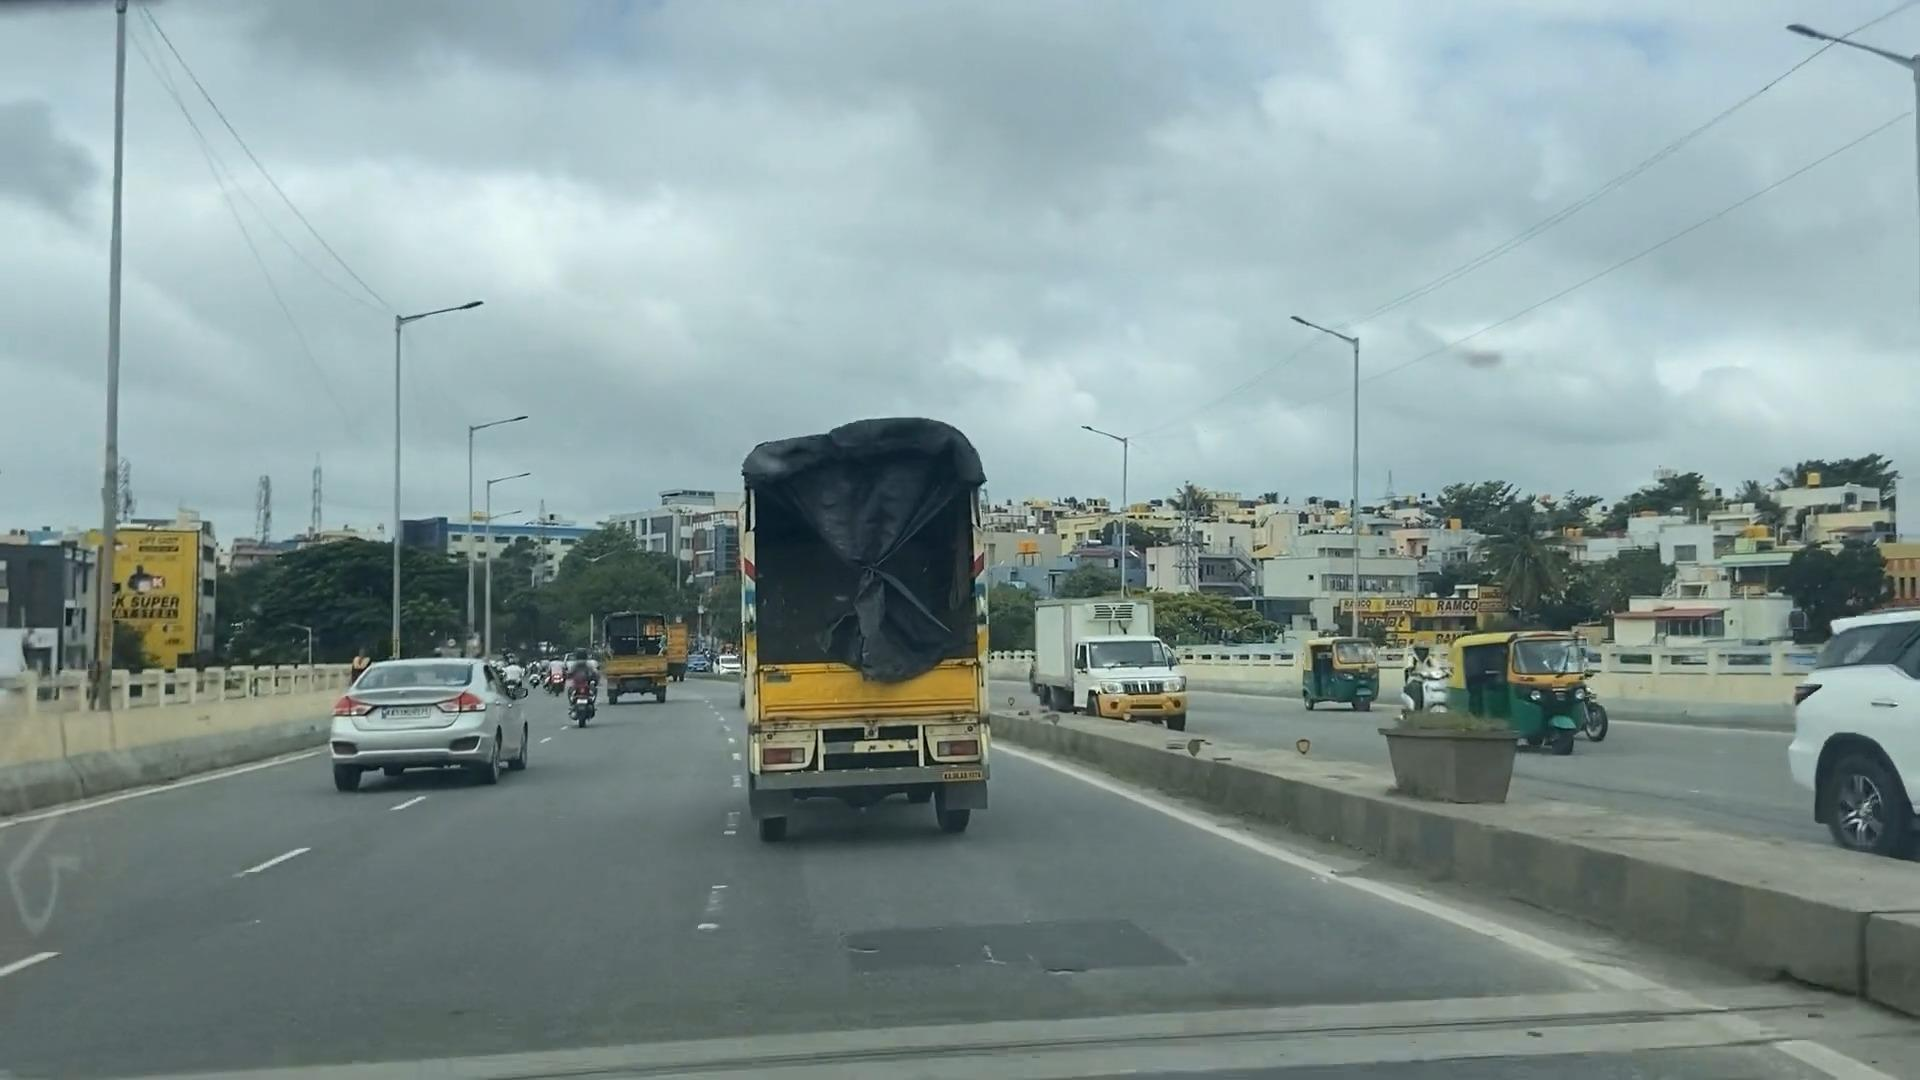HMV: (729, 392, 1001, 841)
